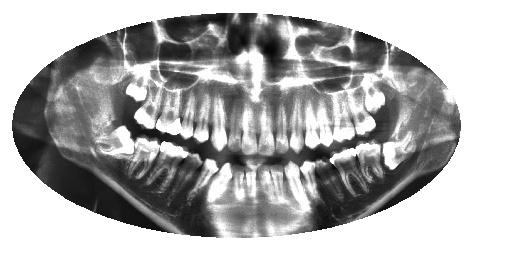i10healthy: (230, 160, 249, 212)
i11healthy: (206, 154, 233, 210)
i12healthy: (184, 153, 220, 208)
i13healthy: (167, 152, 205, 208)
i14healthy: (142, 136, 191, 204)
i15healthy: (122, 126, 162, 184)
i16healthy: (89, 120, 141, 168)
i1healthy: (380, 131, 420, 174)
i2healthy: (353, 136, 390, 185)
i3healthy: (327, 144, 371, 195)
i4decay: (313, 149, 345, 207)
i5healthy: (298, 153, 327, 215)
i6healthy: (282, 156, 313, 214)
i7decay: (269, 161, 290, 214)
i8healthy: (255, 160, 276, 211)
i9decay: (242, 162, 259, 208)
u10healthy: (226, 100, 244, 154)
u11healthy: (208, 91, 230, 158)
u12healthy: (192, 90, 212, 148)
u13healthy: (180, 88, 198, 142)
u14healthy: (153, 81, 184, 141)
u15healthy: (132, 87, 162, 134)
u16healthy: (122, 63, 152, 105)
u1healthy: (357, 73, 390, 115)
u2healthy: (344, 83, 381, 137)
u3healthy: (327, 90, 356, 146)
u4healthy: (313, 96, 335, 149)
u5healthy: (303, 96, 319, 151)
u6healthy: (289, 95, 305, 155)
u7healthy: (274, 100, 291, 161)
u8healthy: (254, 101, 276, 159)
u9healthy: (238, 101, 260, 157)
